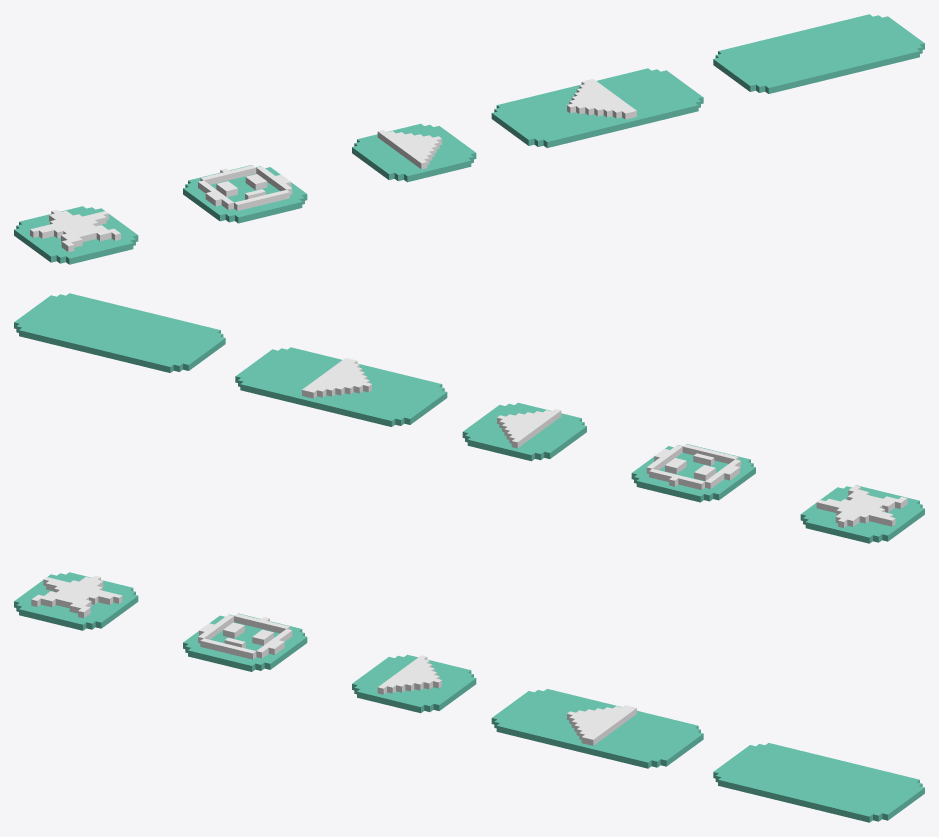
File: buttons.dae
3 renders of one model, top to bottom at view 1: azimuth 30°, elevation 25°; view 2: azimuth 150°, elevation 25°; view 3: azimuth 330°, elevation 25°, orthographic.
Parts seen in each view (by area): view 1: button_select, button_buy, button_character, button_objects, button_back; view 2: button_select, button_buy, button_back, button_character, button_objects; view 3: button_select, button_buy, button_character, button_objects, button_back.
Boxes of the visible parts, x1=… form: button_select: x1=491, y1=68, x2=703, y2=147; button_buy: x1=713, y1=14, x2=924, y2=93; button_character: x1=183, y1=165, x2=307, y2=223; button_objects: x1=14, y1=206, x2=138, y2=264; button_back: x1=352, y1=123, x2=476, y2=182; button_select: x1=235, y1=347, x2=447, y2=426; button_buy: x1=14, y1=293, x2=225, y2=372; button_back: x1=462, y1=402, x2=586, y2=461; button_character: x1=631, y1=444, x2=755, y2=502; button_objects: x1=800, y1=485, x2=924, y2=543; button_select: x1=491, y1=689, x2=703, y2=768; button_buy: x1=713, y1=743, x2=924, y2=822; button_character: x1=183, y1=613, x2=307, y2=671; button_objects: x1=14, y1=572, x2=138, y2=630; button_back: x1=352, y1=654, x2=476, y2=713.
Bounding box in the file's own units: 150 × 2 × 15.
1 material, 1 textured.
